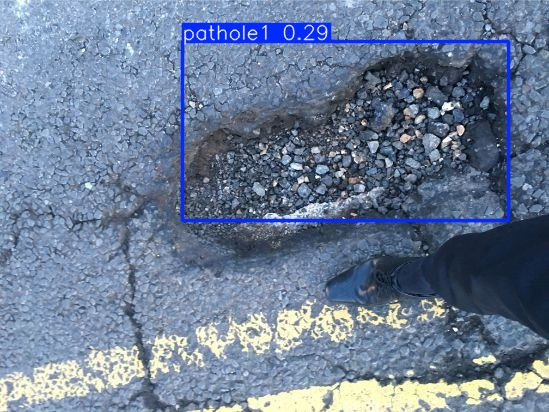pothole: (158, 46, 515, 252)
